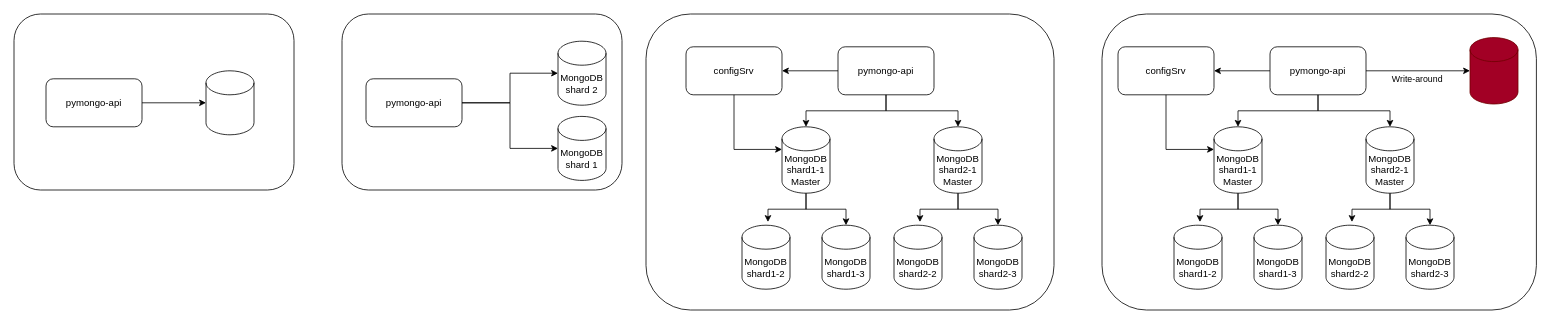
This 1550x324 diagram has some shape labels left out. The shapes that lost their labels are listed below. From the top down, each one's box as (x1, y1, x2, y2) in pixels, then its label:
(1469, 37, 1518, 104): Redis
(13, 13, 294, 190): Задание 1.0
(205, 70, 254, 135): MongoDB
(341, 13, 622, 190): Задание 1.1
(645, 13, 1054, 310): Задание 1.2
(1101, 13, 1536, 310): Задание 1.3
